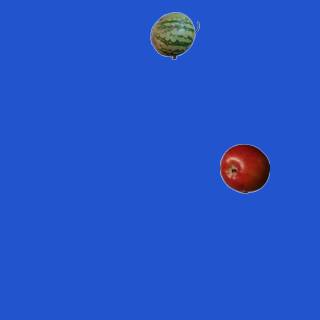Apple Braeburn: (219, 143, 269, 193)
Watermelon: (149, 10, 199, 60)
